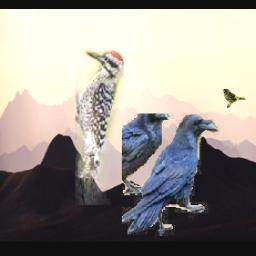Crow: (122, 114, 219, 237)
Sparrow: (222, 88, 245, 108)
Woodpecker: (75, 51, 124, 206)
